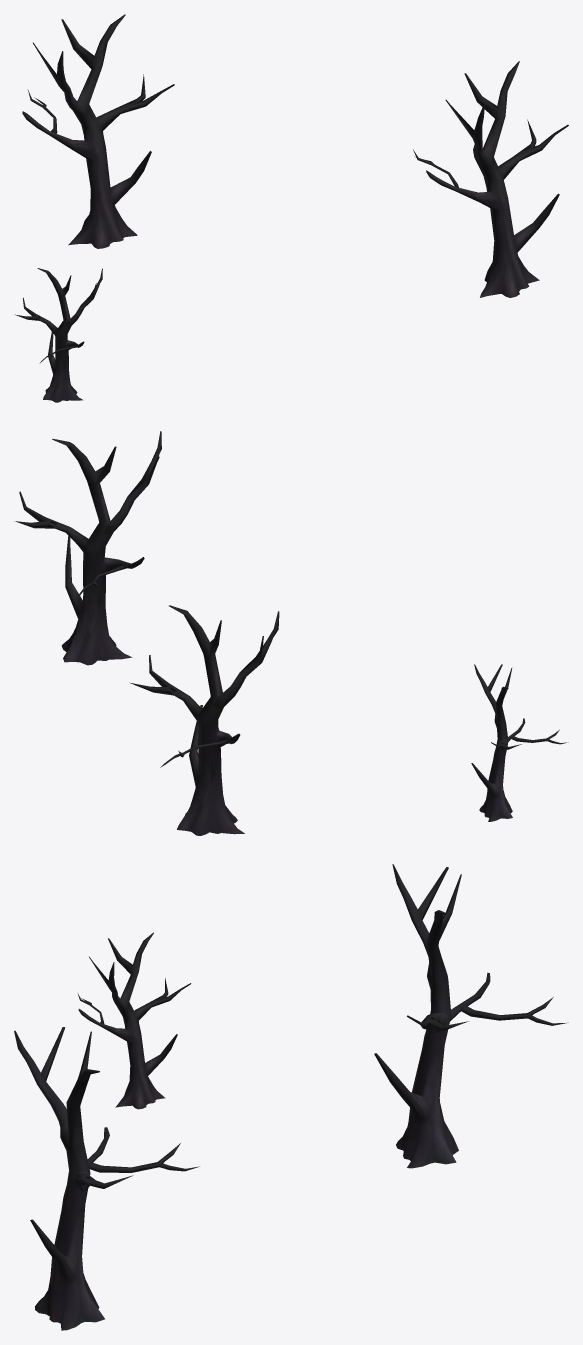
File: Area12_28.fbx
The picture shows the model from 3 angles, top to bottom: view 1: azimuth 30°, elevation 25°; view 2: azimuth 150°, elevation 25°; view 3: azimuth 270°, elevation 25°; orthographic projection. The views are drawn at different scales.
Visible parts, largest first — view 1: Area12_28; view 2: Area12_28; view 3: Area12_28.
Part boxes in pixels (x1,y1,x2,y2): Area12_28: (15, 14, 568, 402); Area12_28: (14, 431, 568, 835); Area12_28: (14, 864, 568, 1330).
Size of the model in its own units: 2734 by 1229 by 2029.
